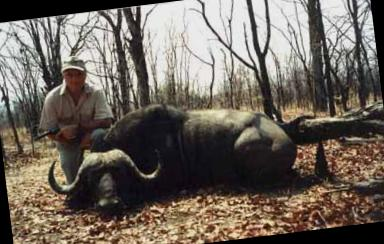Buffalo: (44, 134, 172, 234)
